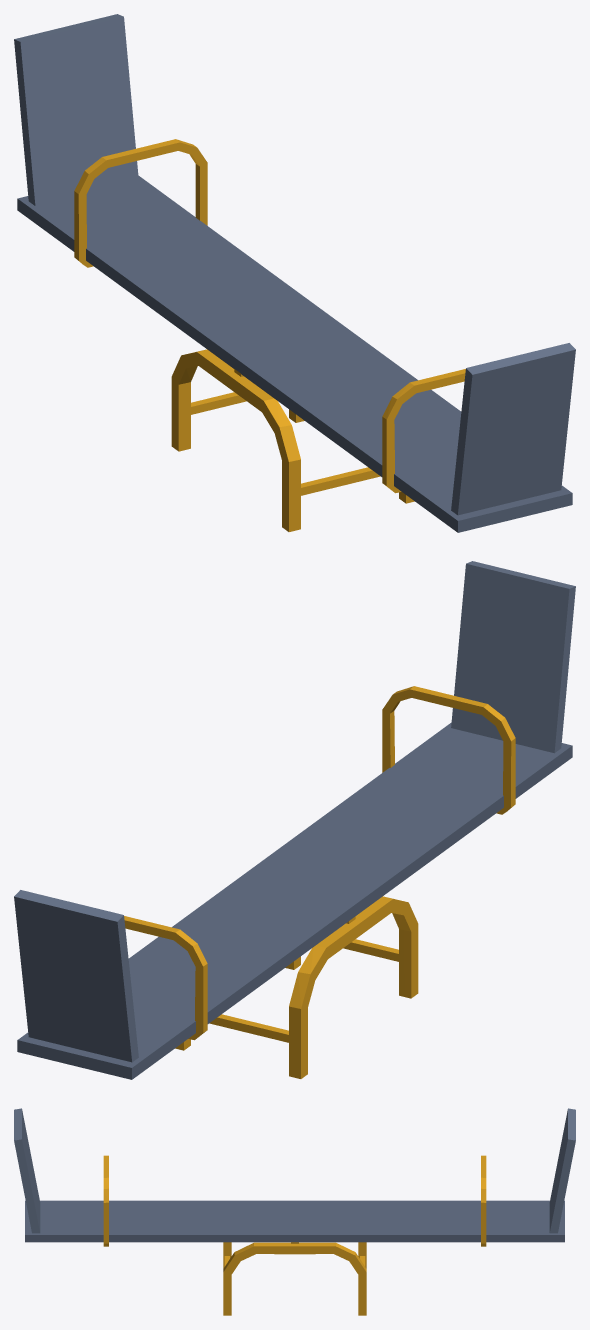
Rendered from Playground_03.fbx.
3 renders of one model, top to bottom at view 1: azimuth 30°, elevation 25°; view 2: azimuth 150°, elevation 25°; view 3: azimuth 270°, elevation 25°, orthographic. The views are drawn at different scales.
Visible parts, largest first — view 1: Playground_03; view 2: Playground_03; view 3: Playground_03.
Boxes of the visible parts, x1,y1,x2,y2 form: Playground_03: [14, 14, 575, 532]; Playground_03: [14, 561, 575, 1079]; Playground_03: [14, 1108, 575, 1315].
Size of the model in its own units: 33.9 by 70.44 by 208.
